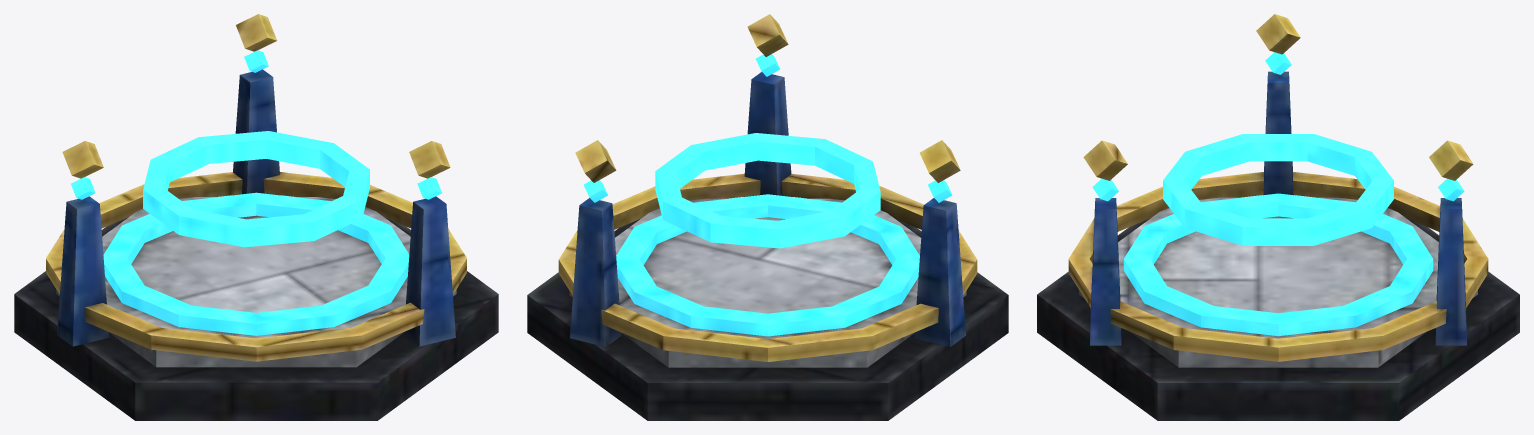
The model's file is u_arcbase4_w.glb.
3 renders of one model, left to right at view 1: azimuth 30°, elevation 25°; view 2: azimuth 150°, elevation 25°; view 3: azimuth 270°, elevation 25°, orthographic.
Parts seen in each view (by area): view 1: u_arcbase4_w; view 2: u_arcbase4_w; view 3: u_arcbase4_w.
Part boxes in pixels (x1,y1,x2,y2): u_arcbase4_w: (14, 14, 498, 420); u_arcbase4_w: (527, 14, 1008, 420); u_arcbase4_w: (1037, 14, 1519, 420).
Size of the model in its own units: 0.9922 by 0.5961 by 1.11.
1 material, 1 textured.
